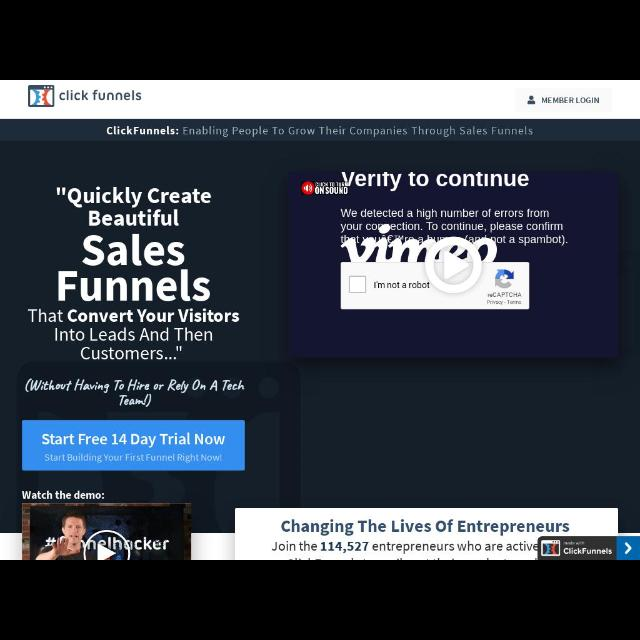image: (288, 171, 618, 357), (21, 368, 297, 534), (23, 504, 190, 560), (27, 85, 54, 107)
panel: (235, 507, 618, 557), (539, 538, 639, 560)
text: (55, 185, 213, 307), (29, 308, 238, 362), (105, 123, 535, 139), (280, 518, 568, 536), (274, 539, 538, 555), (59, 88, 143, 102)
textbutton: (515, 88, 611, 114)
